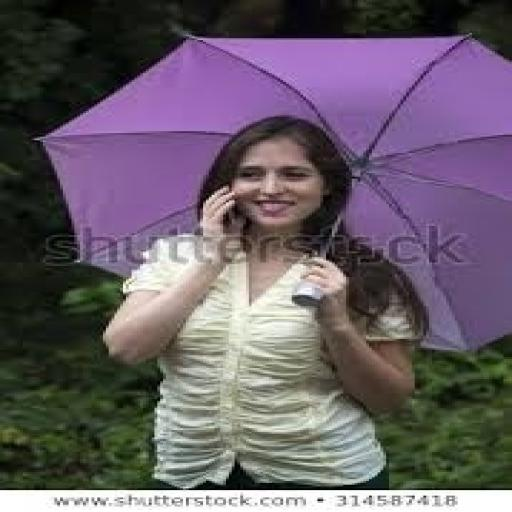calling: (97, 113, 429, 488)
